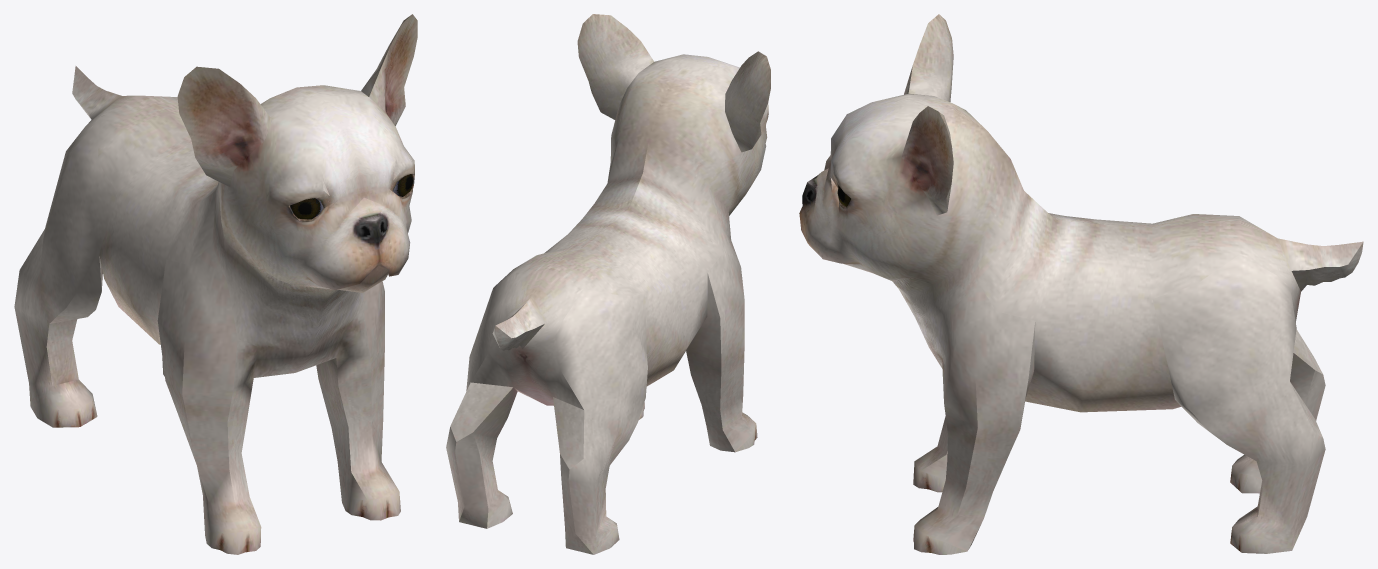
The model's file is french_bulldog.glb.
The picture shows the model from 3 angles, left to right: view 1: azimuth 30°, elevation 25°; view 2: azimuth 150°, elevation 25°; view 3: azimuth 270°, elevation 25°; orthographic projection. The views are drawn at different scales.
Visible parts, largest first — view 1: Object_2, Object_4; view 2: Object_2; view 3: Object_2.
Boxes of the visible parts, x1=… form: Object_2: x1=14, y1=14, x2=417, y2=554; Object_4: x1=290, y1=174, x2=413, y2=219; Object_2: x1=446, y1=14, x2=770, y2=554; Object_2: x1=799, y1=14, x2=1363, y2=554.
Bounding box in the file's own units: 1.95 × 3.81 × 4.29.
Materials: 3 (3 with a texture image).
